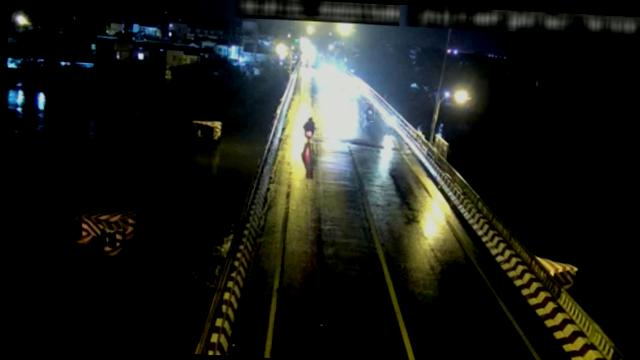Bike: (302, 115, 320, 138), (360, 101, 375, 122)
